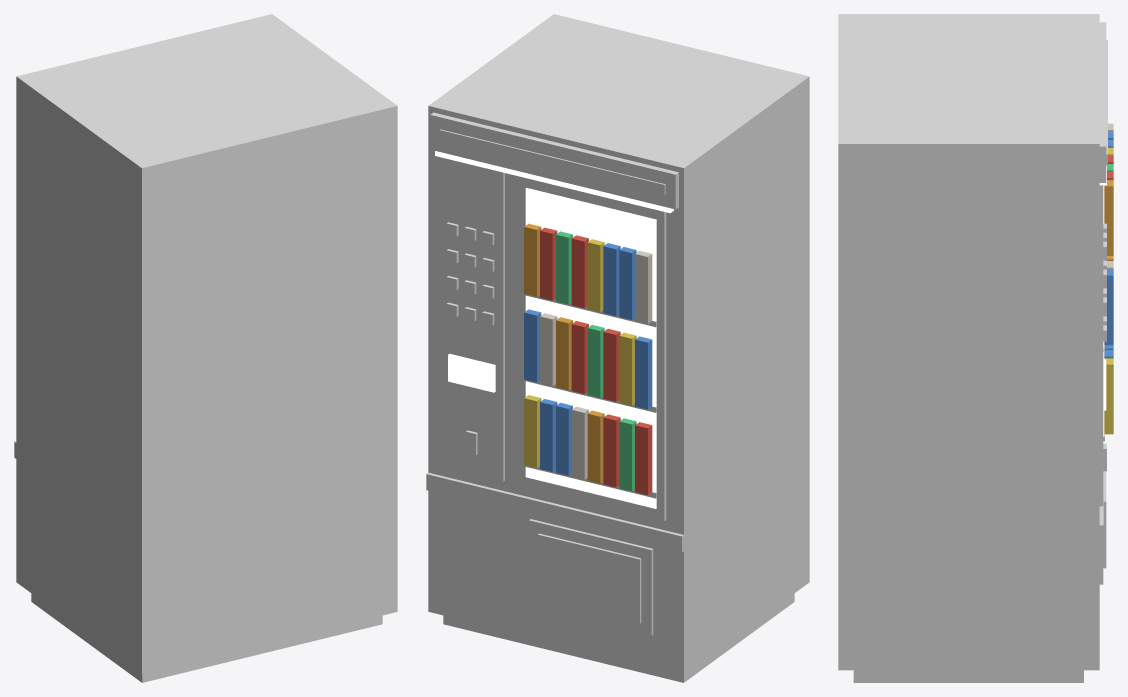
The model's file is vend_red.glb.
3 renders of one model, left to right at view 1: azimuth 30°, elevation 25°; view 2: azimuth 150°, elevation 25°; view 3: azimuth 270°, elevation 25°, orthographic. The views are drawn at different scales.
Parts seen in each view (by area): view 1: vend_red; view 2: vend_red; view 3: vend_red.
Part boxes in pixels (x1,y1,x2,y2): vend_red: [14, 14, 397, 682]; vend_red: [426, 14, 809, 682]; vend_red: [838, 14, 1113, 682].
Size of the model in its own units: 1 by 1.95 by 0.896.
